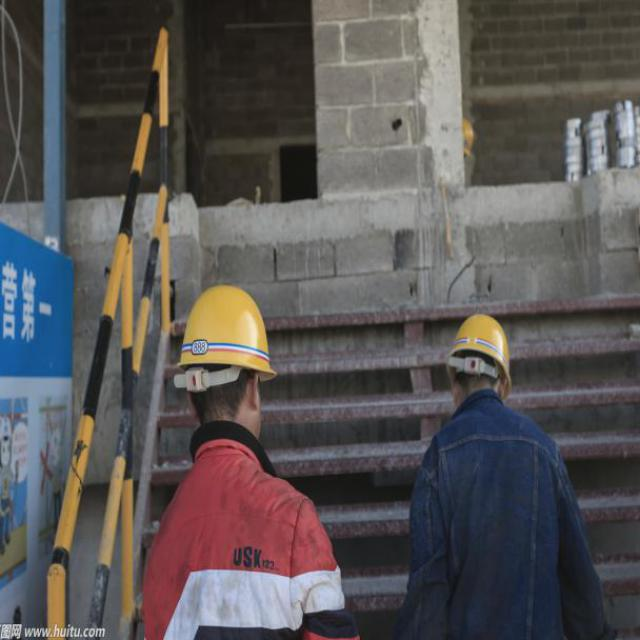helmet: (182, 268, 272, 468), (443, 296, 513, 416)
